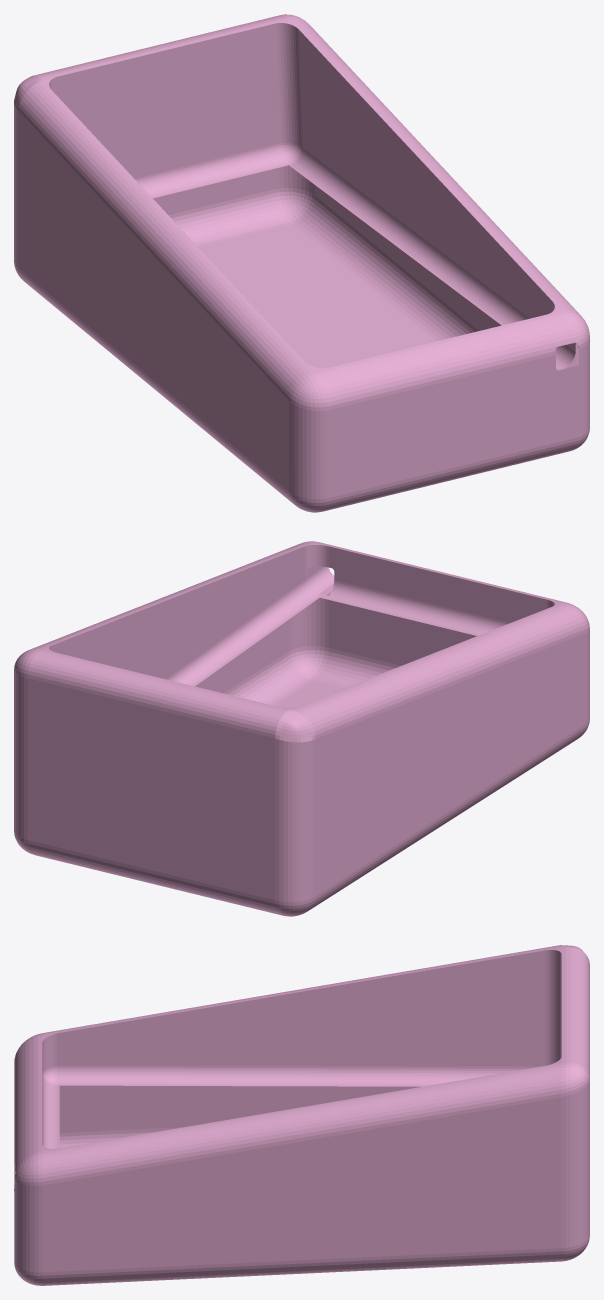
Rendered from cajon.obj.
The picture shows the model from 3 angles, top to bottom: view 1: azimuth 30°, elevation 25°; view 2: azimuth 150°, elevation 25°; view 3: azimuth 270°, elevation 25°; orthographic projection. The views are drawn at different scales.
Parts seen in each view (by area): view 1: Plane_001_Plane_002; view 2: Plane_001_Plane_002; view 3: Plane_001_Plane_002.
Part boxes in pixels (left/top/right/bottom): Plane_001_Plane_002: left=14, top=14, right=589, bottom=512; Plane_001_Plane_002: left=14, top=541, right=589, bottom=916; Plane_001_Plane_002: left=14, top=945, right=589, bottom=1285.
Bounding box in the file's own units: 0.6716 × 0.4983 × 1.18.
Materials: 1 (1 with a texture image).
